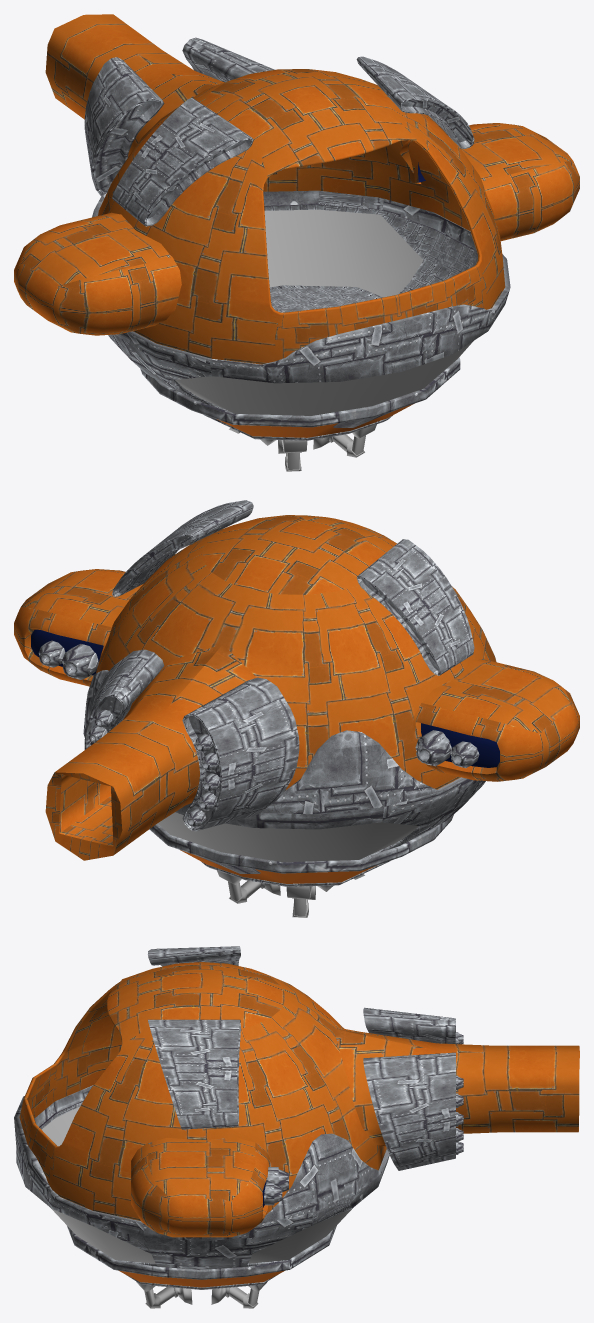
Rendered from ShipLowPoly.fbx.
3 views of the same model, one above another, from view 1: azimuth 30°, elevation 25°; view 2: azimuth 150°, elevation 25°; view 3: azimuth 270°, elevation 25° (orthographic). The views are drawn at different scales.
Visible parts, largest first — view 1: ShipLow; view 2: ShipLow; view 3: ShipLow.
Boxes of the visible parts, bbox=[...] form: ShipLow: bbox=[14, 14, 579, 471]; ShipLow: bbox=[14, 500, 579, 917]; ShipLow: bbox=[14, 946, 579, 1308].
Bounding box in the file's own units: 27.68 × 17.63 × 28.68.
Materials: 7 (5 with a texture image).
